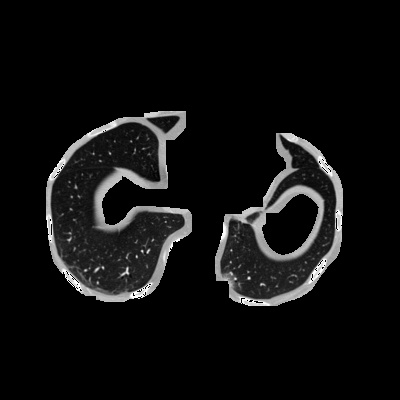PN: (221, 272, 237, 288)
